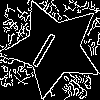I: (28, 23, 64, 69)
